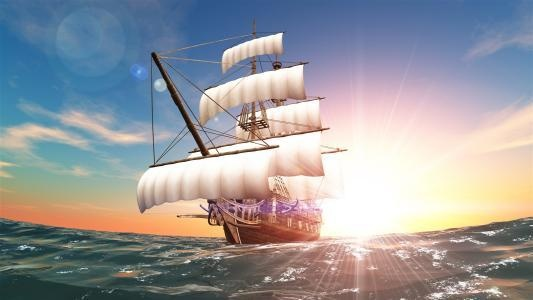fanchuan: (135, 13, 348, 243)
